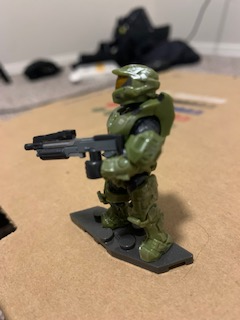chief: (92, 63, 173, 263)
rifle: (22, 128, 124, 174)
spartan: (90, 61, 171, 261)
